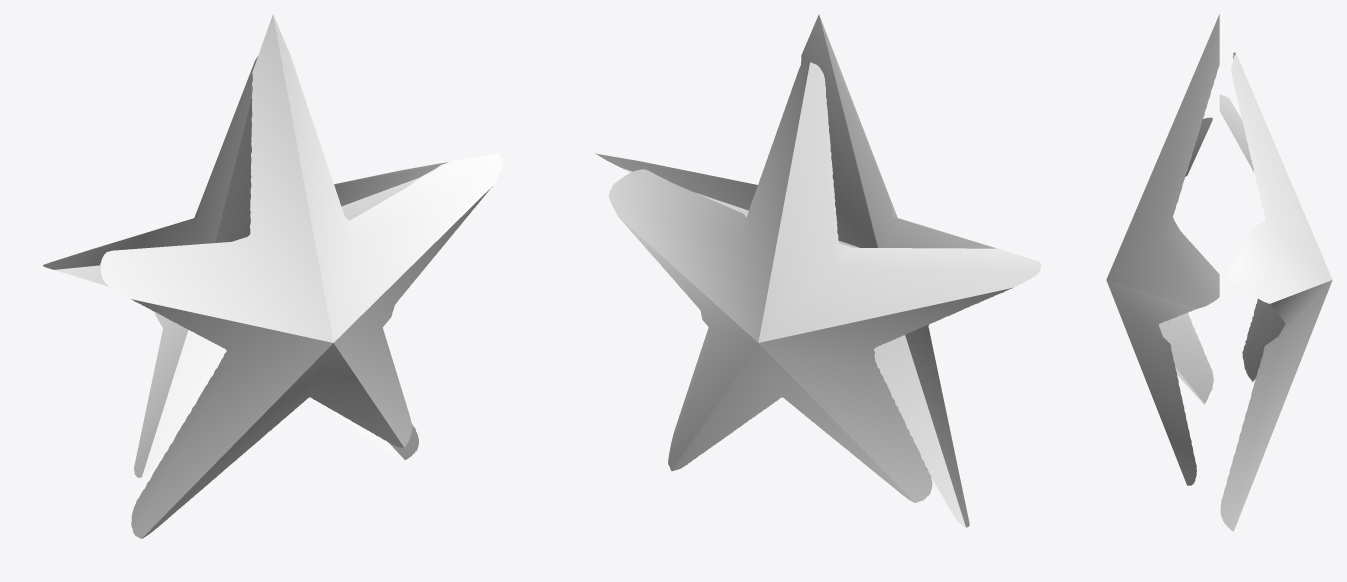
File: star.fbx
The picture shows the model from 3 angles, left to right: view 1: azimuth 30°, elevation 25°; view 2: azimuth 150°, elevation 25°; view 3: azimuth 270°, elevation 25°; orthographic projection. The views are drawn at different scales.
Visible parts, largest first — view 1: star; view 2: star; view 3: star.
Part boxes in pixels (box(x1,y1,x2,y2)): star: box(43, 14, 503, 538); star: box(595, 14, 1040, 527); star: box(1106, 14, 1332, 531).
Bounding box in the file's own units: 0.3351 × 0.3187 × 0.1359.
